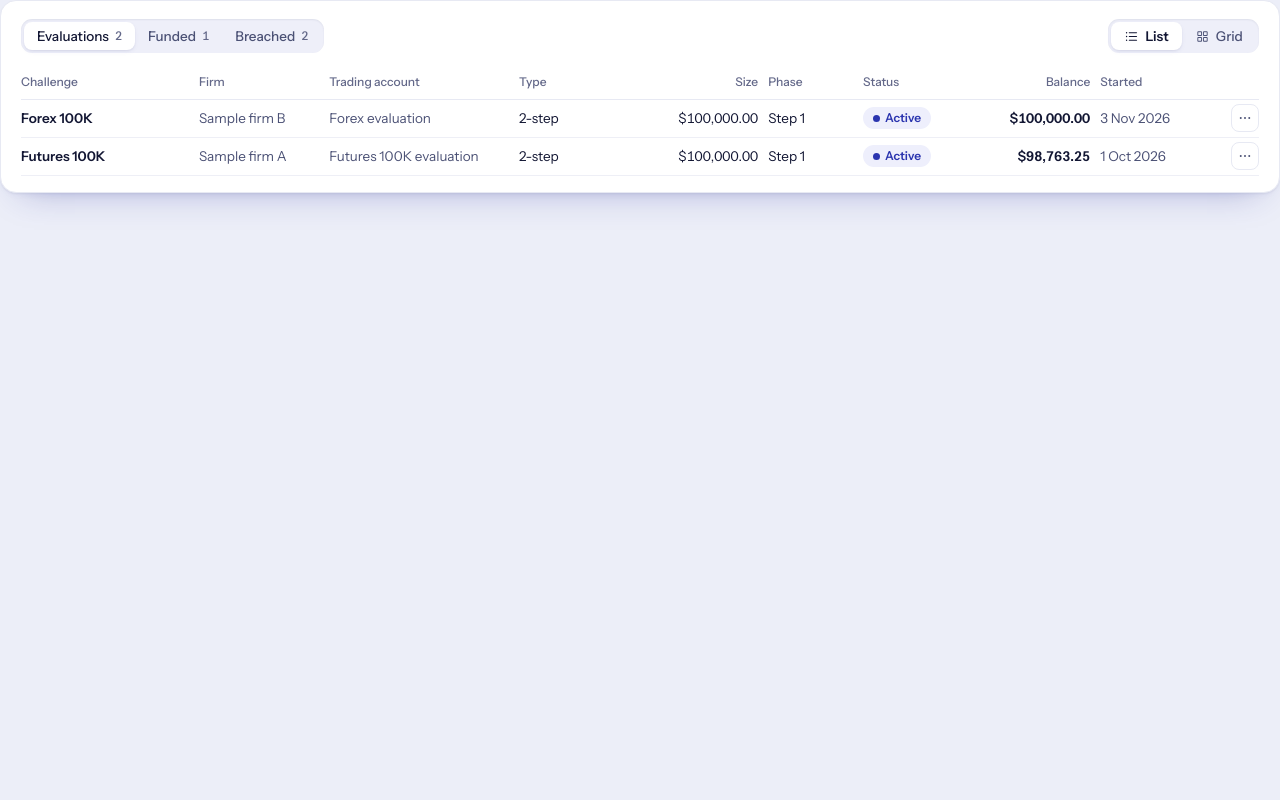
Scenario: confirming Move to funded passes the evaluation: funded phase, active, and the counts follow
Step 1. Press Enter in the button named "Actions for Futures 100K", box [1231,142,1259,170]
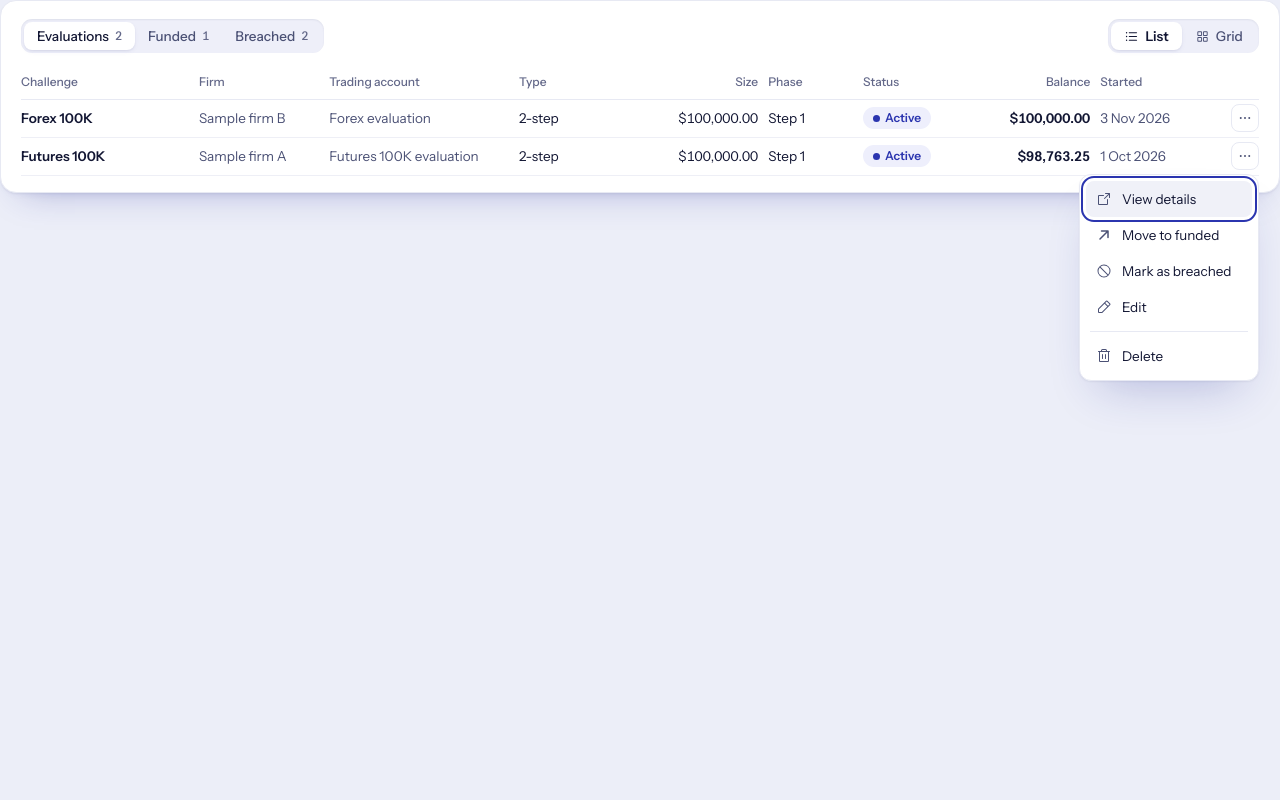
Step 2. Click the menu item "Move to funded" → [1158, 235], box [1096,227,1219,243]
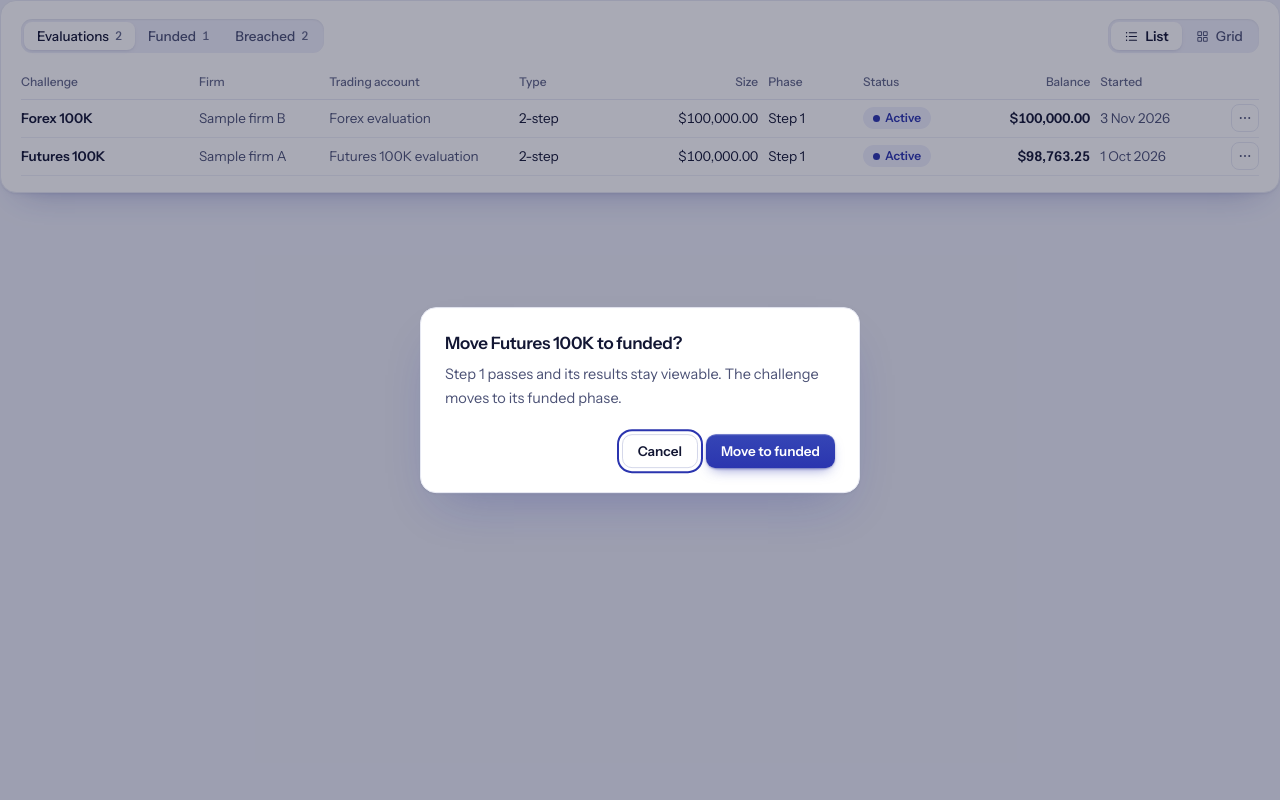
Step 3. Click the button "Move to funded" → [770, 451], box [706,434,835,468]
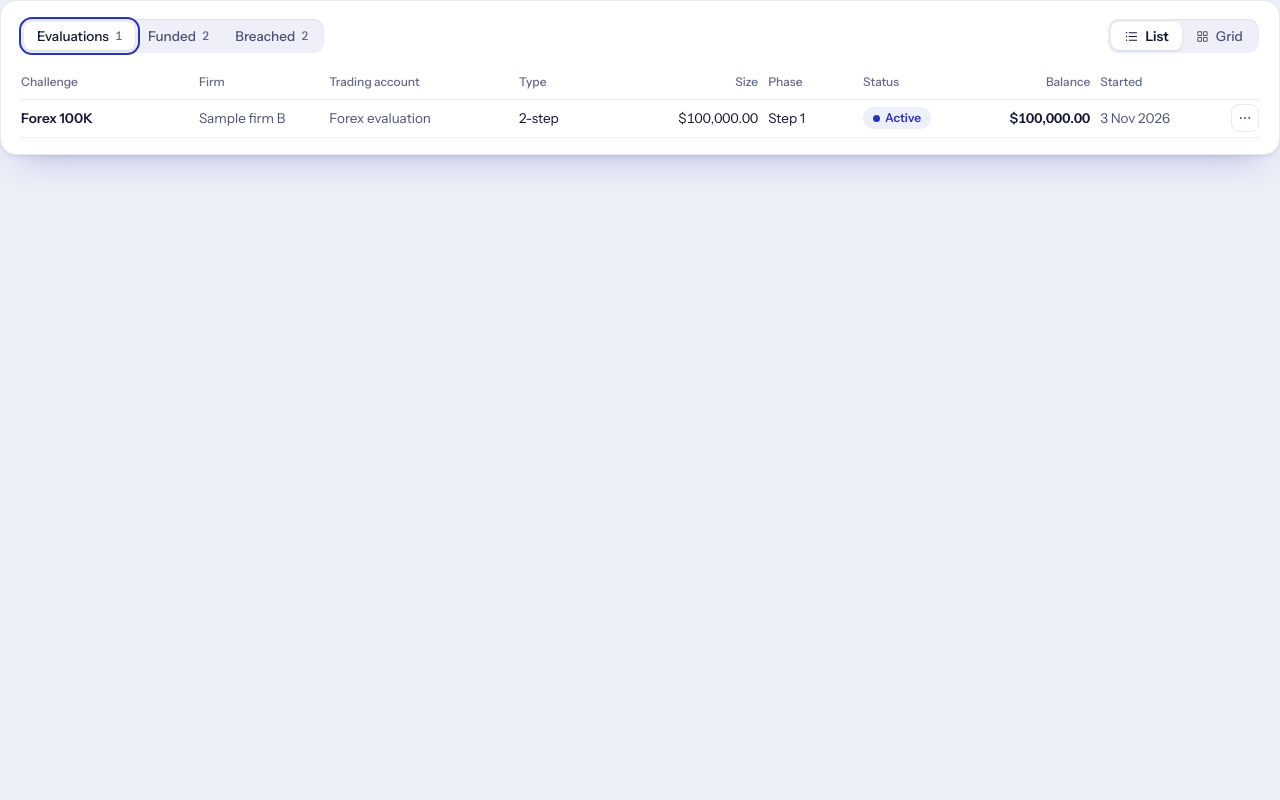
Expected: the tab "Breached 2" is shown, [222,22,322,50]
Expected: the tab "Evaluations 1" is shown, [24,22,135,50]
Expected: the tab "Funded 2" is shown, [135,22,222,50]
